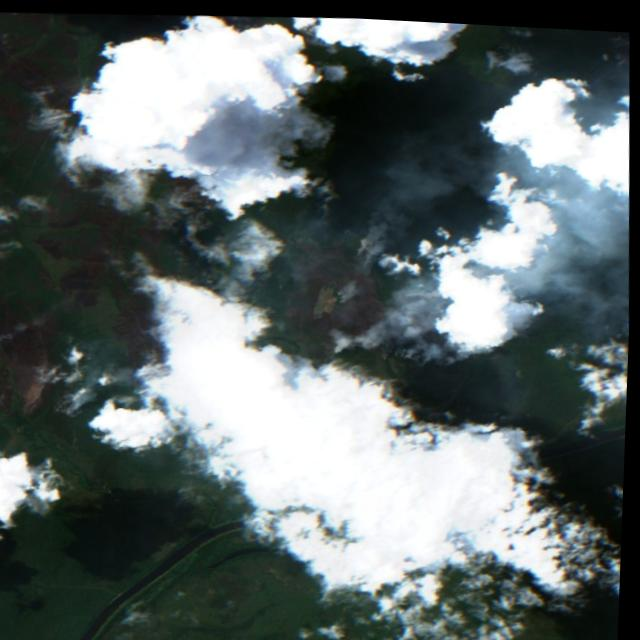fire: (314, 232, 506, 376), (40, 326, 106, 425)
